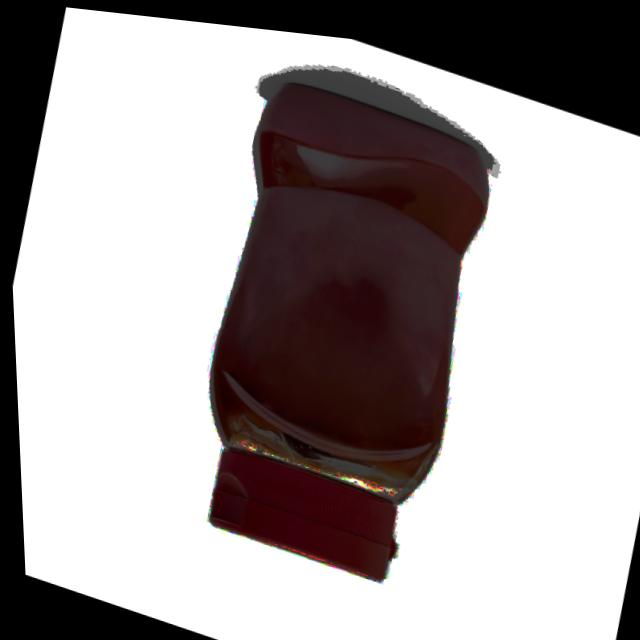ketchup: (155, 54, 525, 610)
